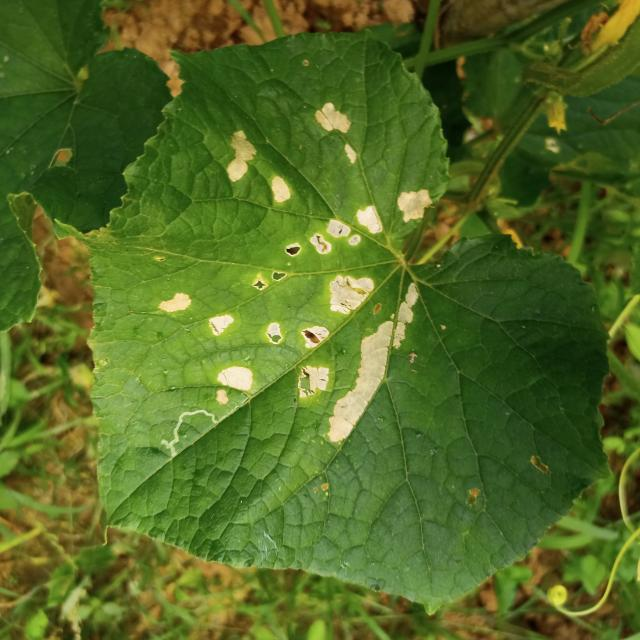disease_cucumber: (256, 187, 435, 441), (153, 286, 254, 408), (224, 125, 293, 207), (314, 96, 361, 165)
